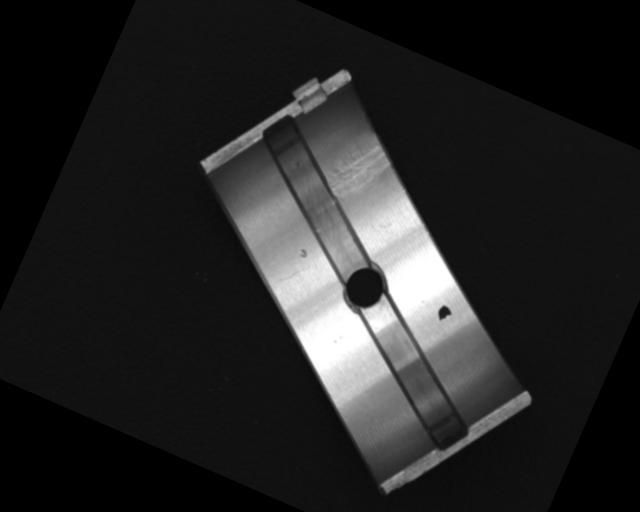blot: (434, 302, 454, 324)
bruise: (297, 247, 309, 259)
gap: (224, 108, 410, 283), (323, 291, 504, 457)
hole: (337, 260, 391, 317)
scratch: (317, 122, 399, 216)
